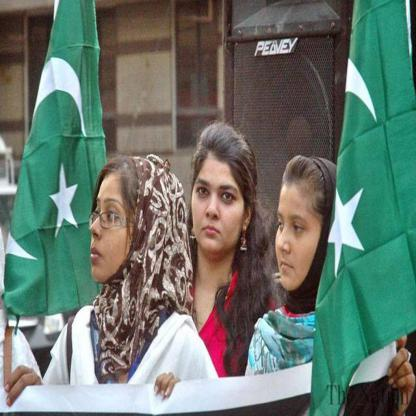face: (277, 188, 329, 293), (90, 179, 143, 282), (193, 156, 243, 251)
